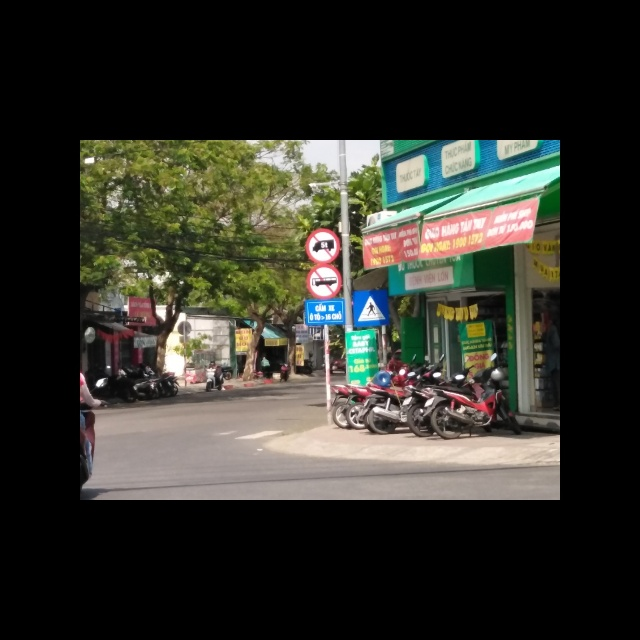Cấm xe tải: (304, 227, 340, 264)
Cấm xe xe khách: (305, 263, 342, 300)
Đường dành cho người đi bộ: (352, 291, 389, 328)
